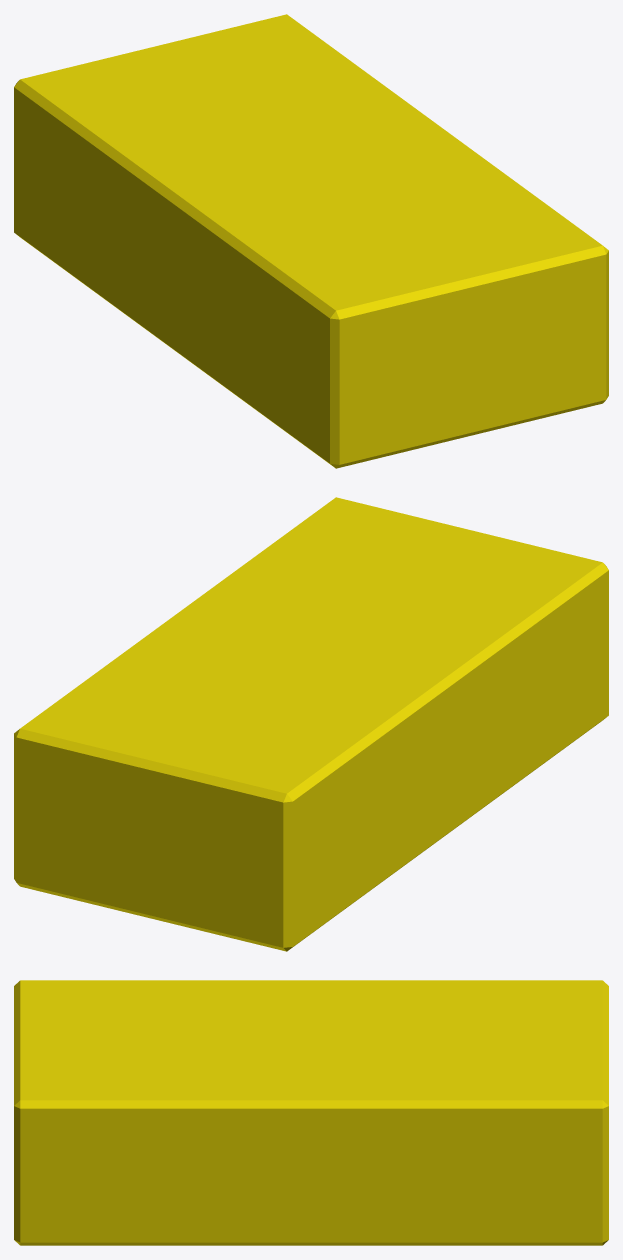
Rendered from Sugar.fbx.
3 views of the same model, one above another, from view 1: azimuth 30°, elevation 25°; view 2: azimuth 150°, elevation 25°; view 3: azimuth 270°, elevation 25° (orthographic). The views are drawn at different scales.
Parts seen in each view (by area): view 1: Sugar; view 2: Sugar; view 3: Sugar.
Boxes of the visible parts, x1=… form: Sugar: x1=14, y1=14, x2=608, y2=468; Sugar: x1=14, y1=497, x2=608, y2=951; Sugar: x1=14, y1=980, x2=608, y2=1245.
Size of the model in its own units: 10.47 by 5.67 by 21.01.
